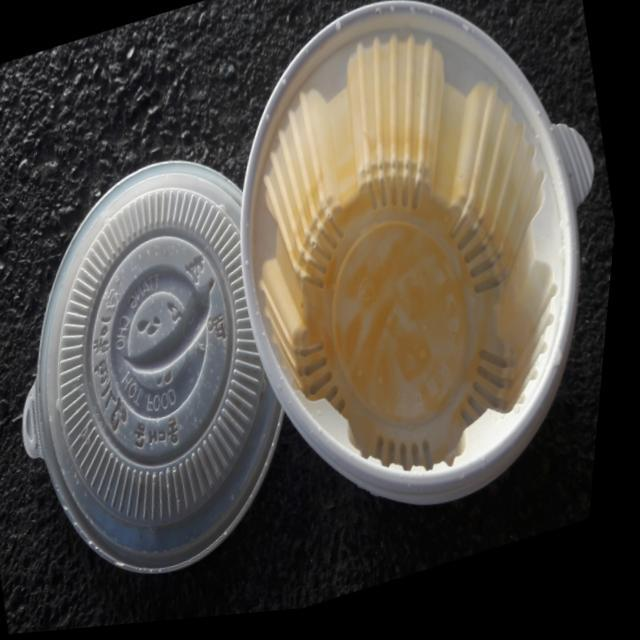bottle: (173, 0, 636, 507)
